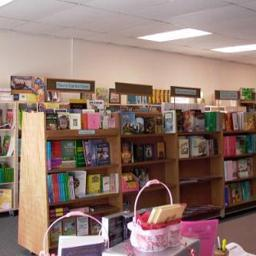Otro Obstaculo: (40, 181, 229, 255)
